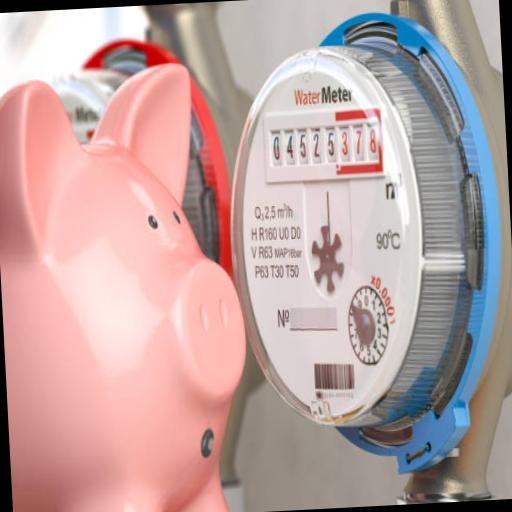0: (270, 132, 284, 164)
2: (310, 126, 326, 166)
3: (338, 124, 352, 164)
4: (283, 132, 299, 164)
5: (324, 128, 338, 164), (299, 130, 311, 164)
7: (352, 127, 368, 162)
8: (367, 122, 382, 164)
medida: (269, 118, 382, 166)
